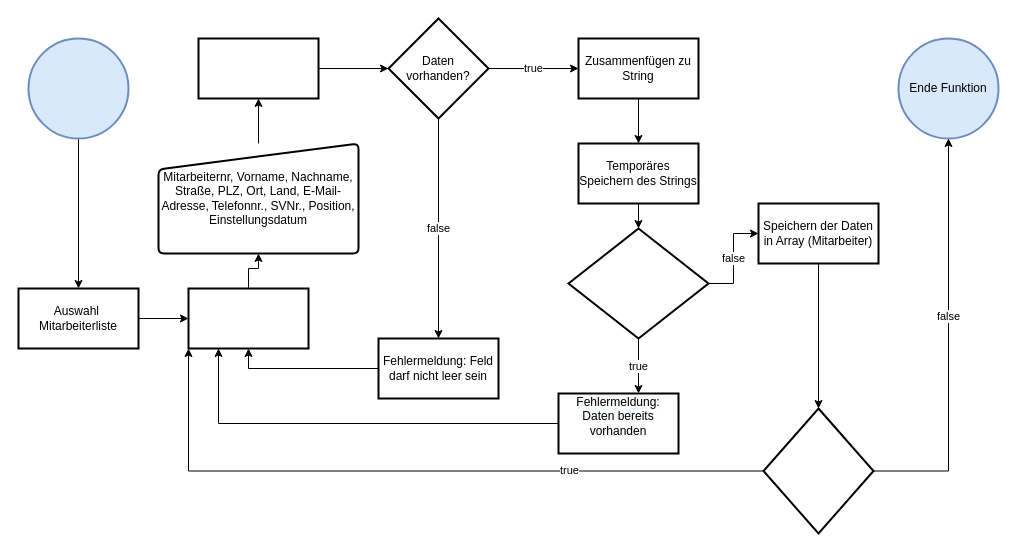
Image size: 1016x551. Some labels were removed from this diagram. The shapes that lost their labels are listed below. From the top down, each one's centre as x and y in pixels, then its label:
At [78,88]: "Start Funktion".
At [258,68]: "Einlesen der Daten".
At [638,283]: "Sind eingegebne Daten bereits vorhanden?".
At [248,318]: "Eingabe der Daten".
At [818,470]: "Weitere Daten eingeben?".
